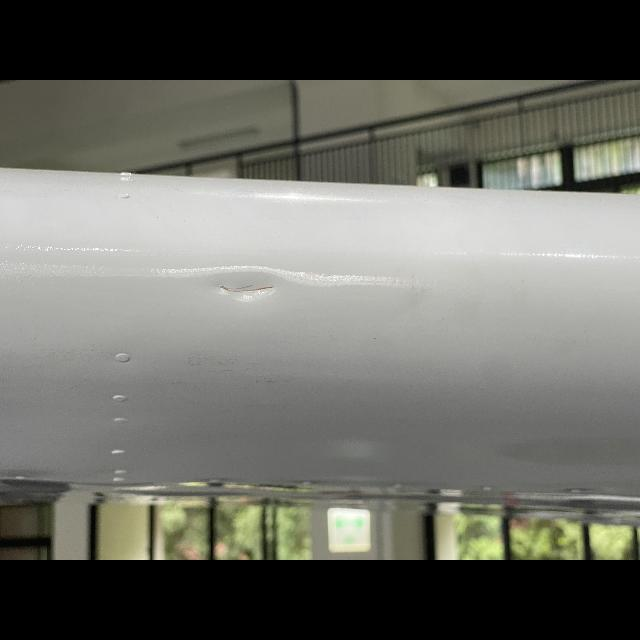dent: (187, 264, 316, 308)
